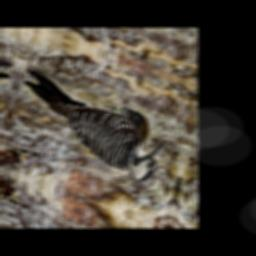Woodpecker: (10, 65, 171, 187)
